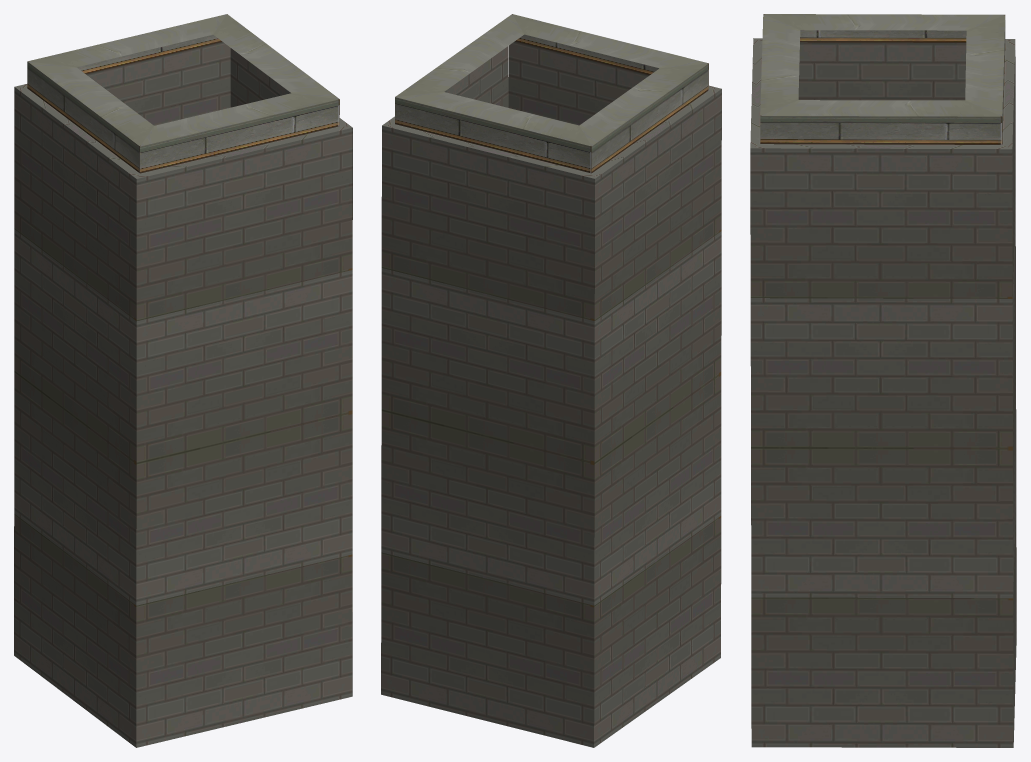
The model's file is Yland1_jz_01 Yland1.FBX.
3 views of the same model, side by side, from view 1: azimuth 30°, elevation 25°; view 2: azimuth 150°, elevation 25°; view 3: azimuth 270°, elevation 25° (orthographic). The views are drawn at different scales.
Visible parts, largest first — view 1: Yland1_jz_01 Yland1; view 2: Yland1_jz_01 Yland1; view 3: Yland1_jz_01 Yland1.
Boxes of the visible parts, left/top/right/bottom form: Yland1_jz_01 Yland1: left=14, top=14, right=352, bottom=747; Yland1_jz_01 Yland1: left=381, top=14, right=721, bottom=747; Yland1_jz_01 Yland1: left=750, top=14, right=1016, bottom=747.
Bounding box in the file's own units: 8.49 × 22.27 × 8.57.
